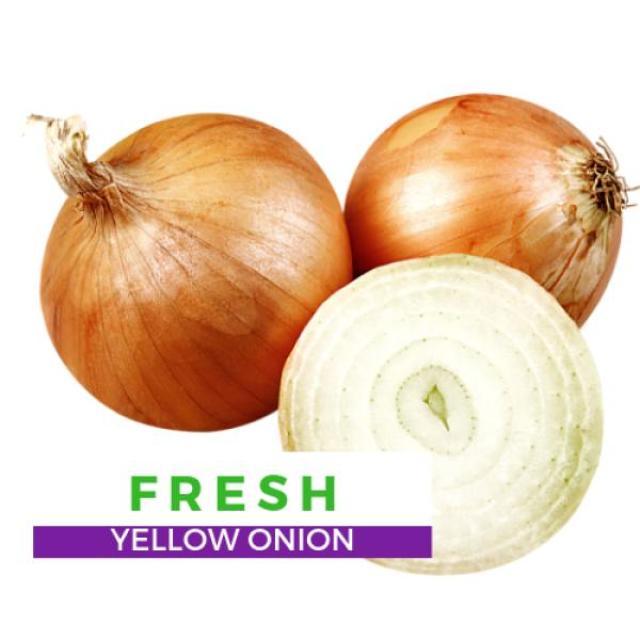Onion: (26, 114, 355, 434), (343, 93, 629, 329)
